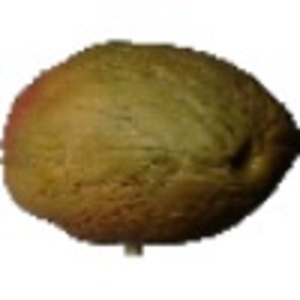mamão: (3, 31, 296, 253)
